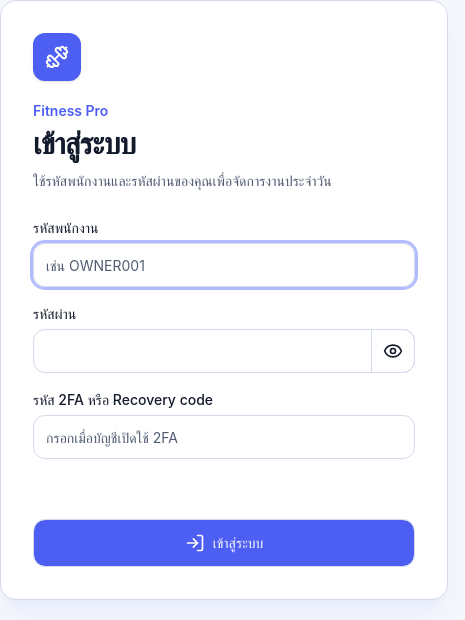
it: LoginForm › ซ่อนรายละเอียด invalid JSON และแสดงข้อความกลาง
The image size is (465, 620).
Type "OWNER001" into the field labelled "รหัสพนักงาน" at (224, 265), box x1=33 y1=243 x2=415 y2=287
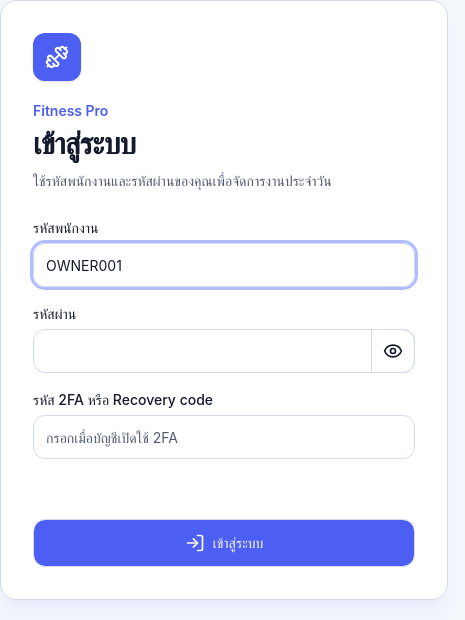
Type "ValidPass#2026" into the password field labelled "รหัสผ่าน" at (224, 351), box x1=33 y1=329 x2=415 y2=373
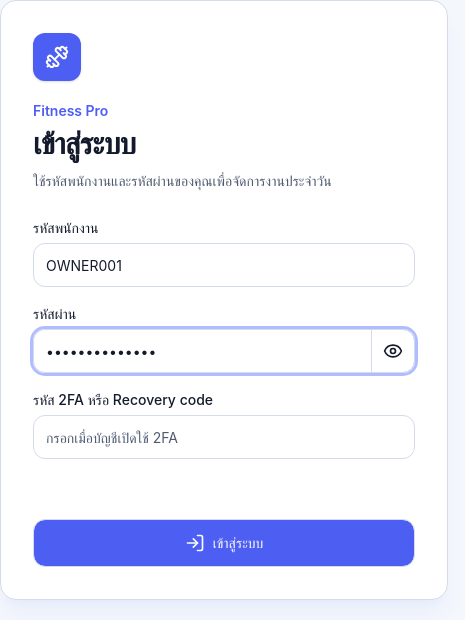
Click the button "เข้าสู่ระบบ" at (224, 543), box x1=33 y1=519 x2=415 y2=567
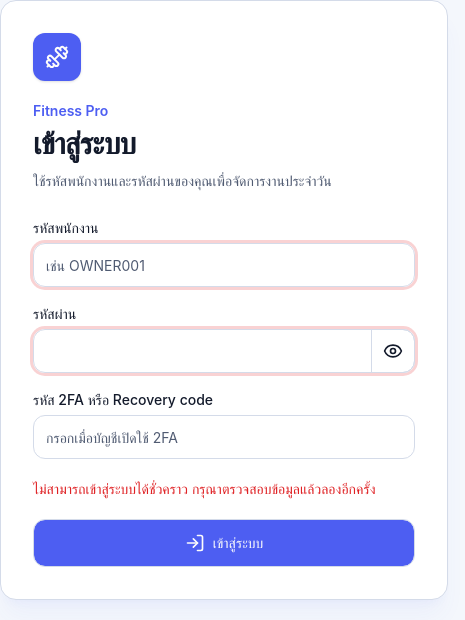
Expected: the text "ไม่สามารถเข้าสู่ระบบได้ชั่วคราว กรุณาตรวจสอบข้อมูลแล้วลองอีกครั้ง" is shown, x1=33 y1=479 x2=415 y2=499
